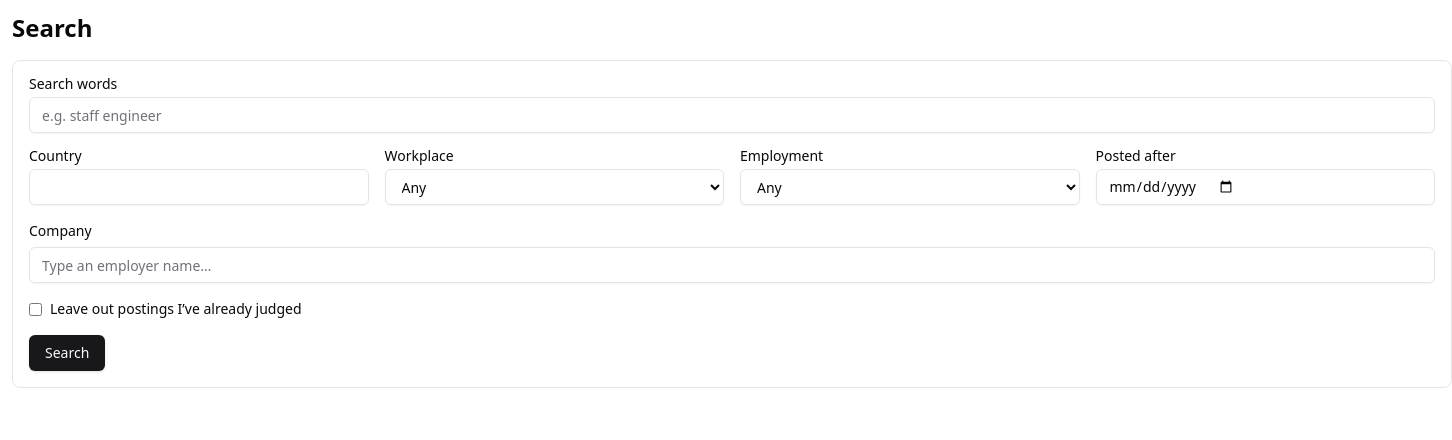
SearchView › shows the empty message when the search comes back with no rows
This screenshot has width=1452, height=440.
Click the button "Search".
click(67, 353)  # box [29,335,105,371]
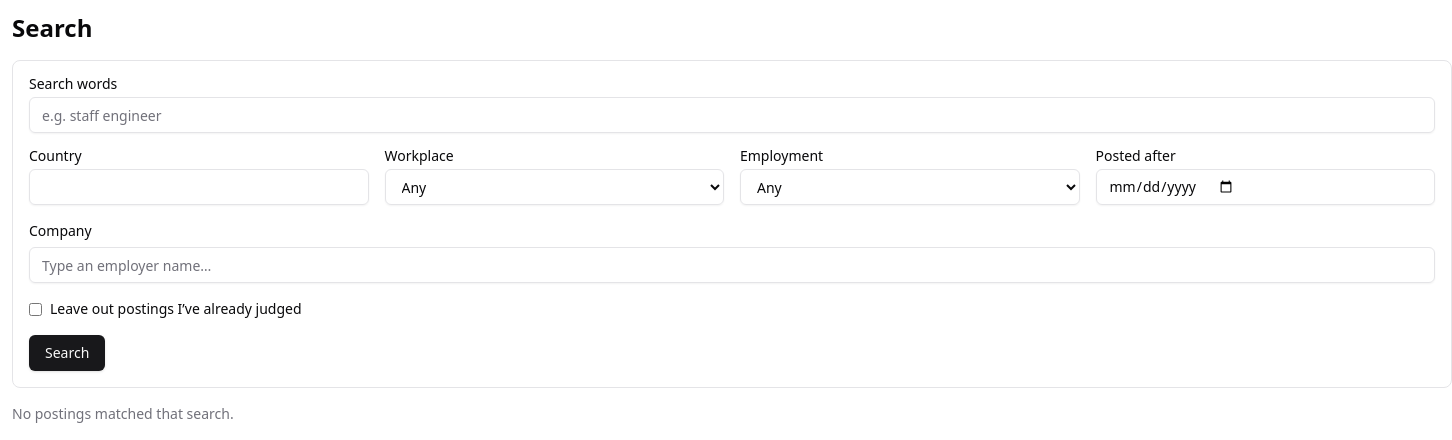
Expected: the text "No postings matched that search." is shown, [12,404,234,423]
